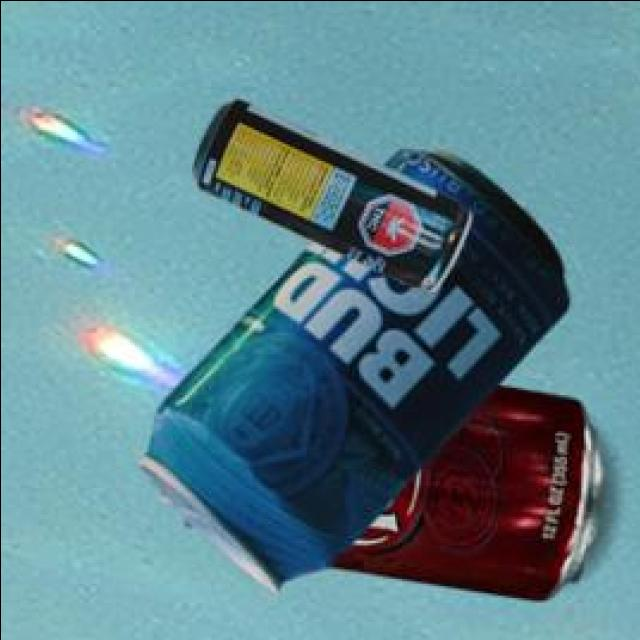logam: (140, 152, 572, 593), (334, 388, 605, 603), (197, 104, 474, 295)
